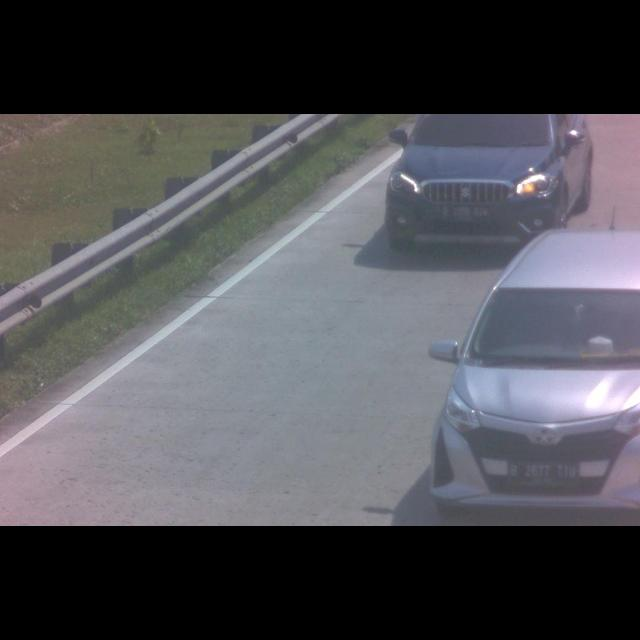plate: (506, 459, 580, 486)
